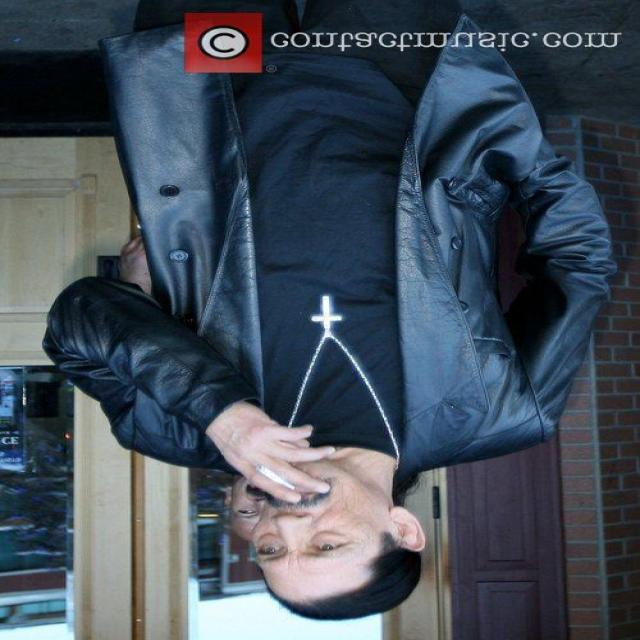cigarette: (238, 454, 311, 502)
